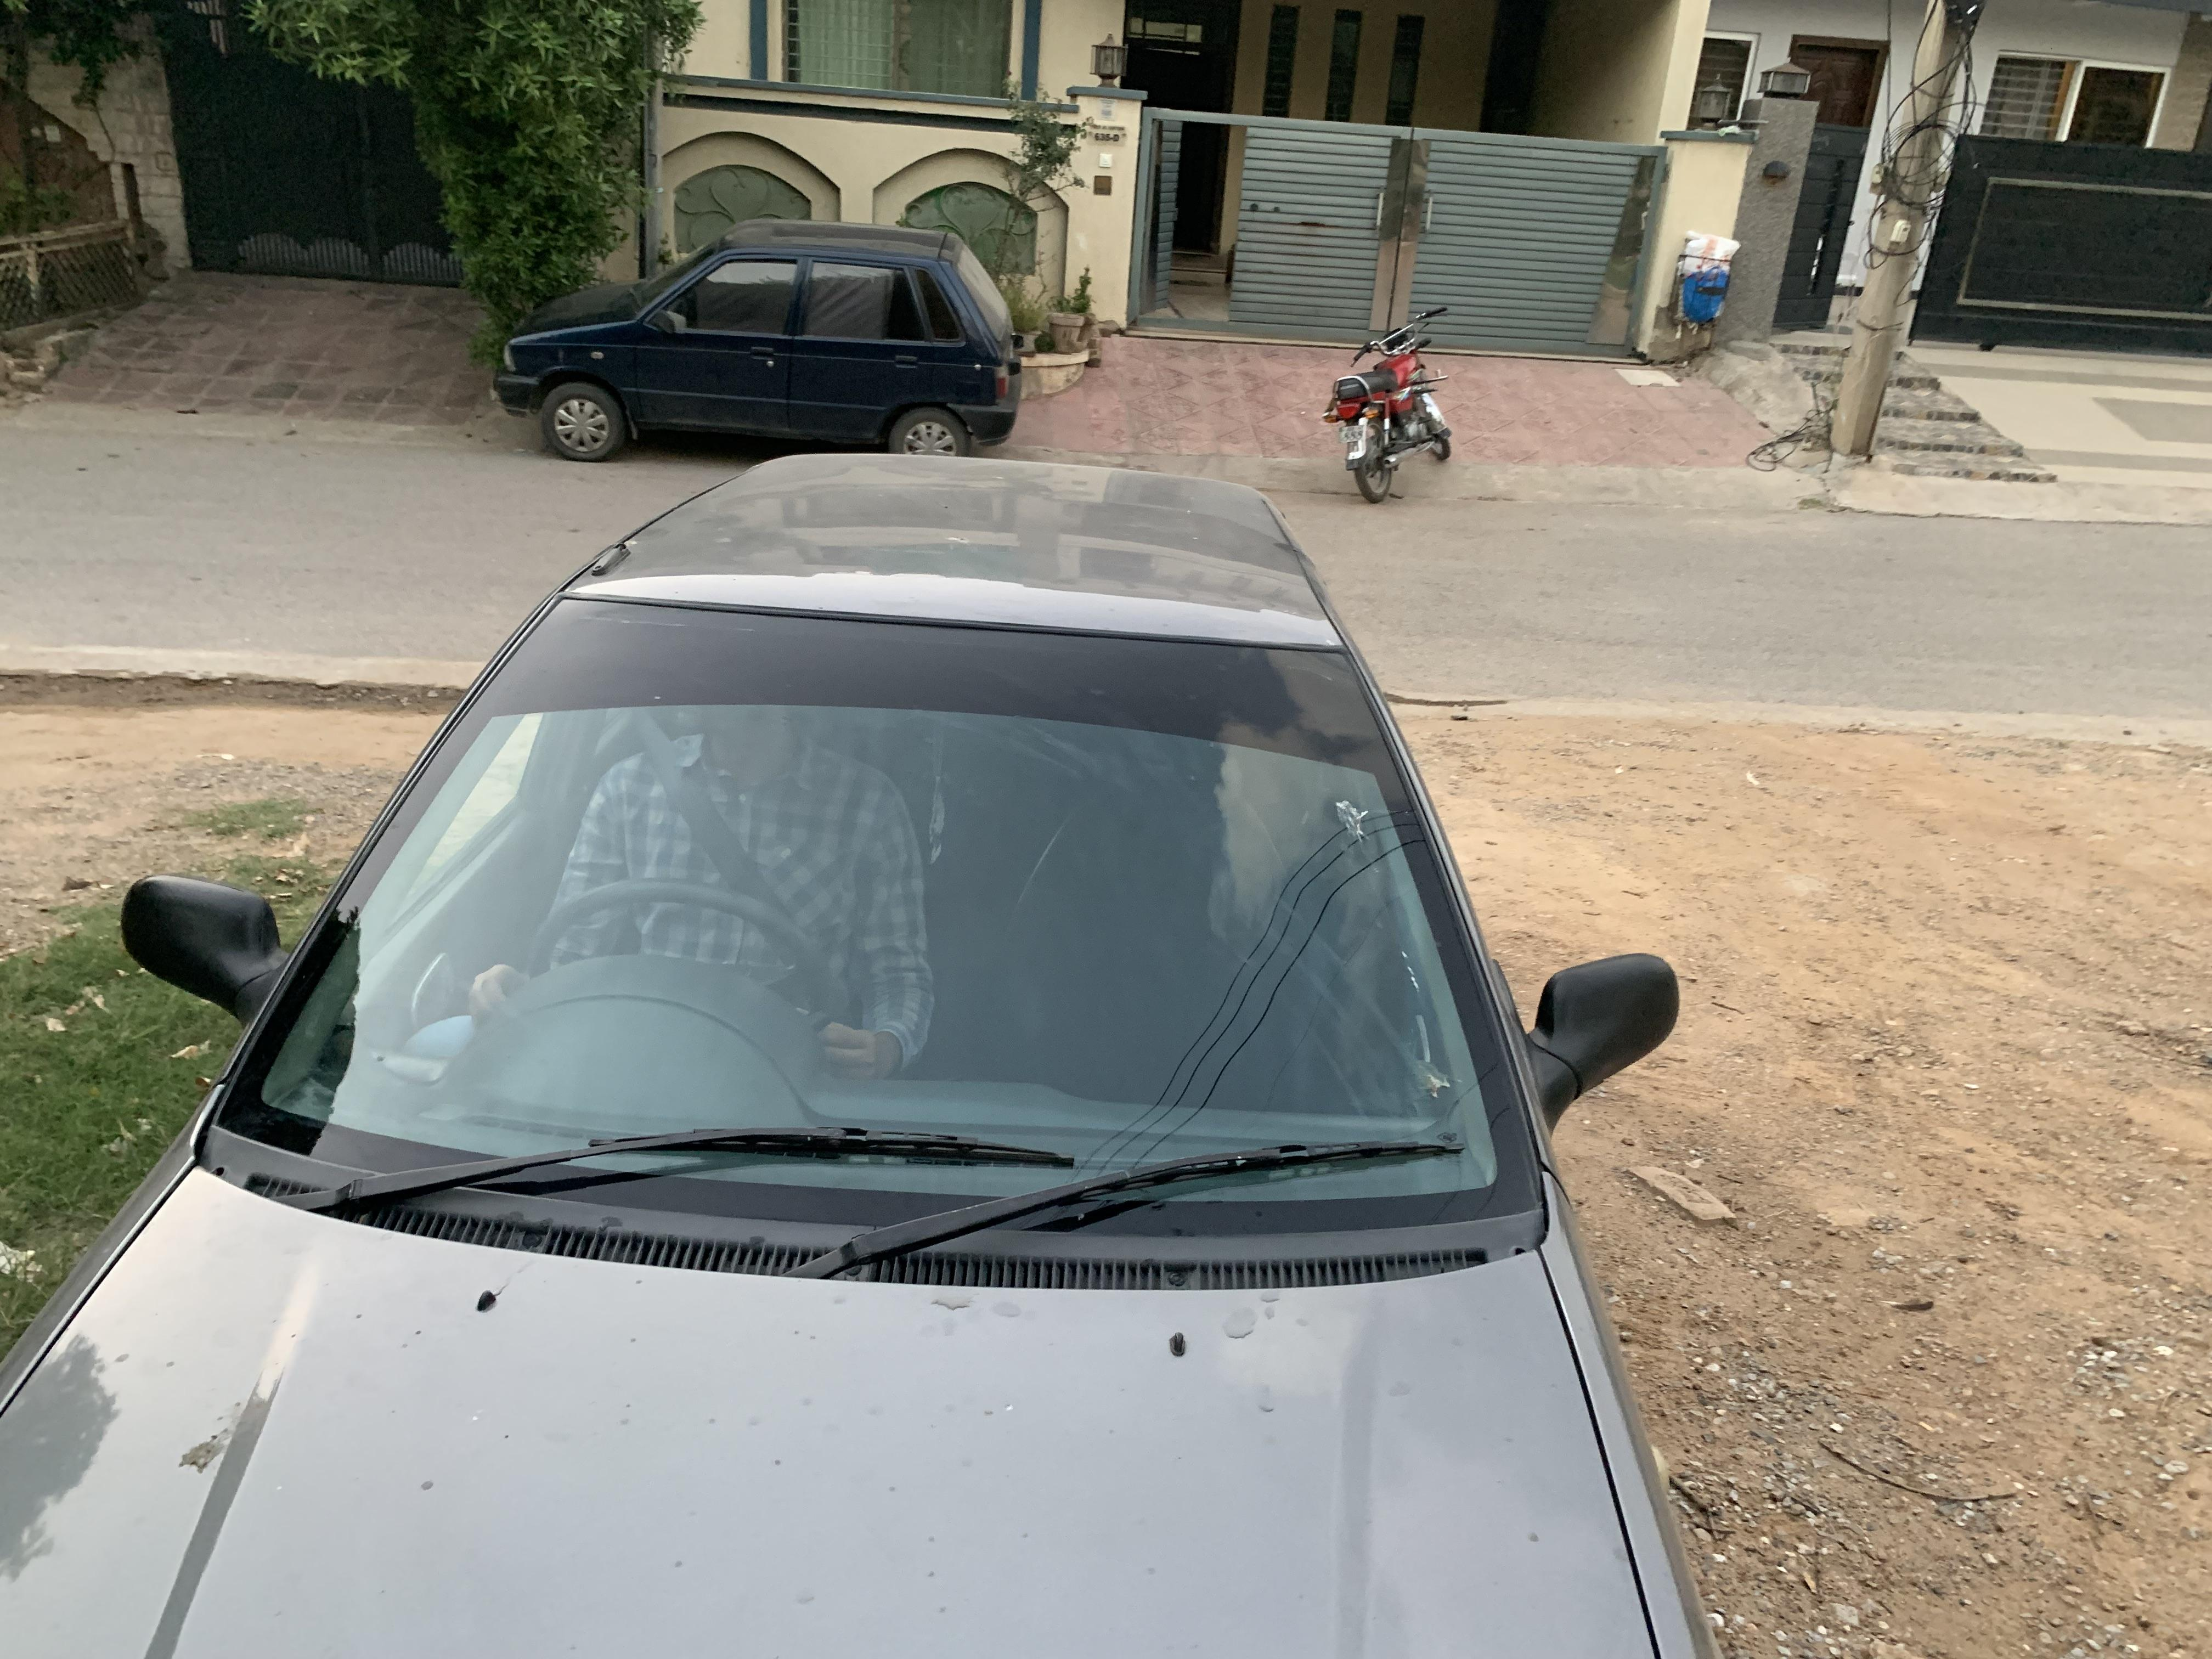windshield: (183, 577, 1559, 1290)
